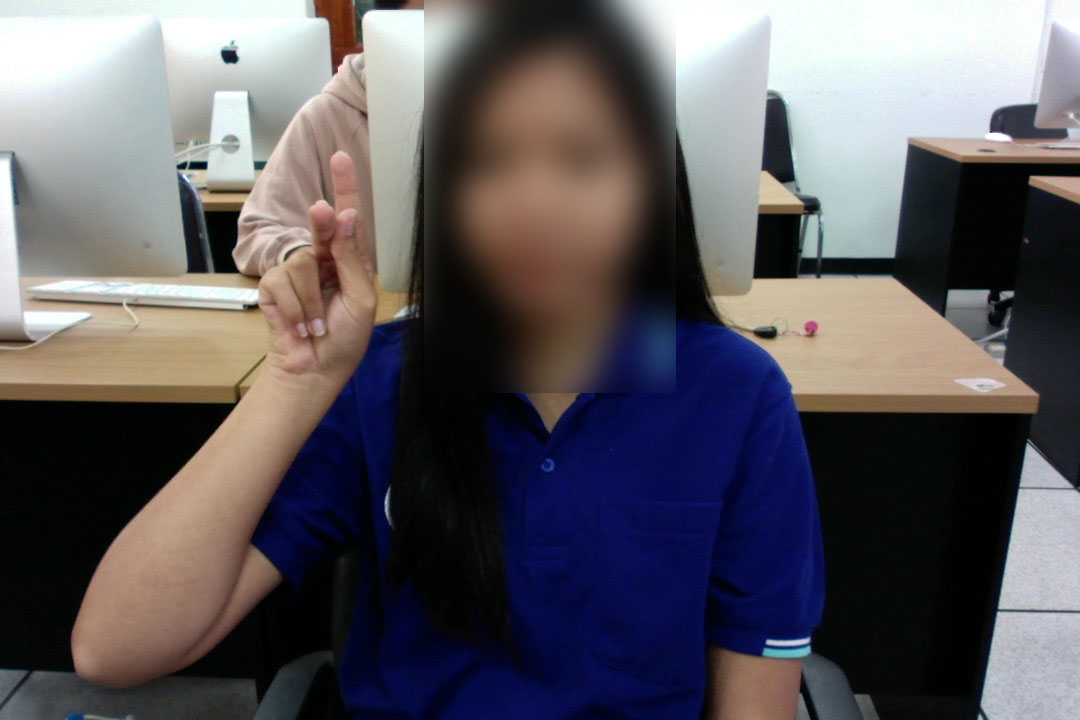ko: (246, 148, 382, 378)
